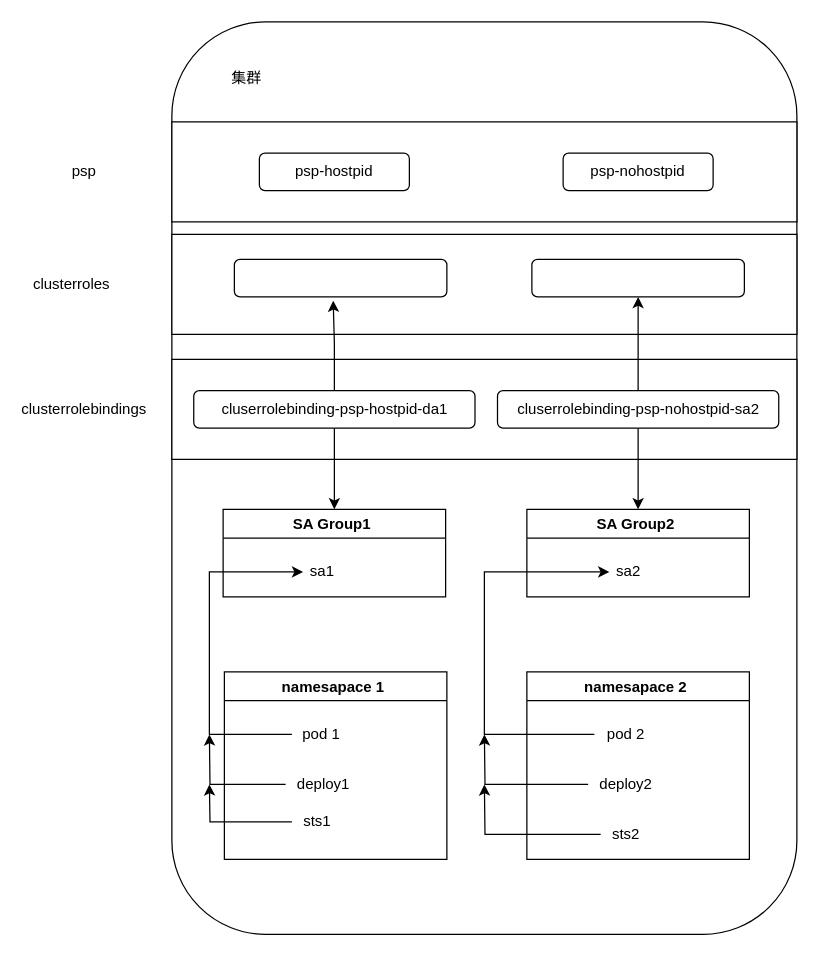
Some shapes in this 819 by 956 pixel diagram are drawn without their labels. Here are the shapes that lost their labels. From the top down, the centre of each, then its label:
At (x=340, y=277): "cluserrole-psp-hostpid".
At (x=637, y=277): "cluserrole-psp-nohostpid".
